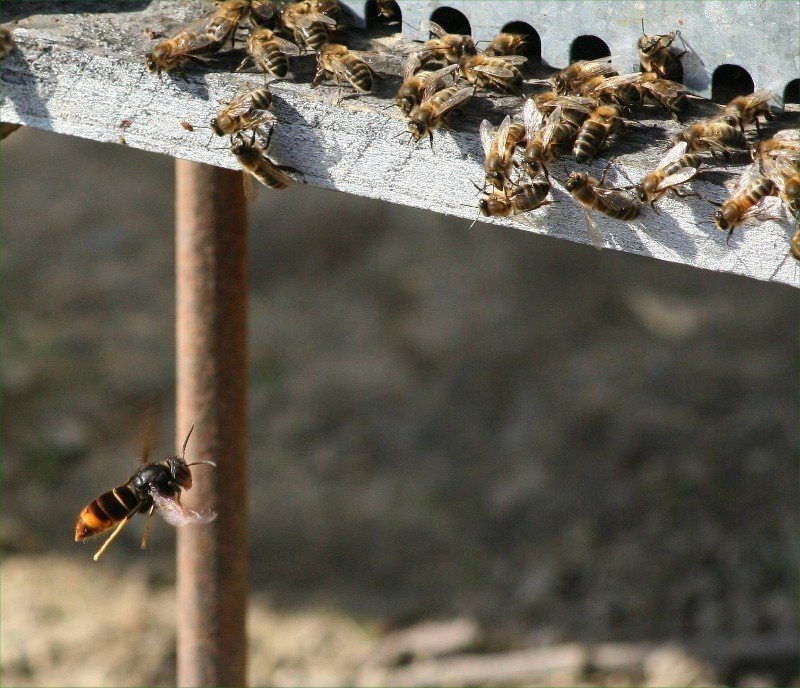bee: (521, 63, 635, 174), (713, 146, 800, 242), (678, 84, 780, 151), (238, 3, 313, 80), (567, 161, 658, 224), (635, 34, 700, 120), (466, 179, 559, 231), (146, 26, 229, 84), (445, 43, 529, 98), (636, 150, 715, 206), (227, 138, 301, 194), (399, 90, 483, 138), (206, 90, 281, 143), (315, 46, 381, 104), (478, 111, 525, 182), (429, 22, 489, 69), (399, 73, 446, 110)
hornet: (56, 437, 237, 554)
